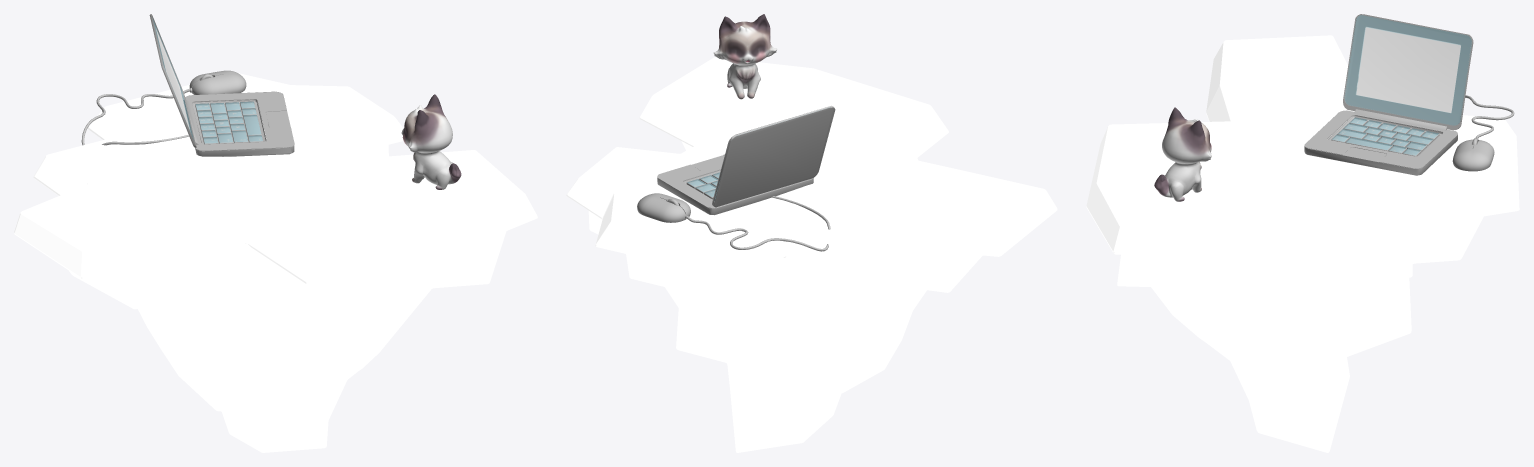
The model's file is Home.glb.
The picture shows the model from 3 angles, left to right: view 1: azimuth 30°, elevation 25°; view 2: azimuth 150°, elevation 25°; view 3: azimuth 270°, elevation 25°; orthographic projection.
Parts seen in each view (by area): view 1: Island_big, Muis_1_Mat_2, Body; view 2: Island_big, Muis_1_Mat_2, Body; view 3: Island_big, Muis_1_Mat_2, MacBook_1_MacBook.1_0.001, Body.
Part boxes in pixels (x1,y1,x2,y2): Island_big: [14, 73, 537, 452]; Muis_1_Mat_2: [81, 14, 294, 156]; Body: [401, 94, 461, 189]; Island_big: [566, 57, 1057, 452]; Muis_1_Mat_2: [637, 105, 835, 251]; Body: [713, 14, 777, 99]; Island_big: [1086, 35, 1519, 452]; Muis_1_Mat_2: [1304, 14, 1514, 175]; MacBook_1_MacBook.1_0.001: [1356, 27, 1460, 112]; Body: [1154, 107, 1211, 201].
Size of the model in its own units: 5.89 by 5.28 by 5.38.
6 materials, 2 textured.
